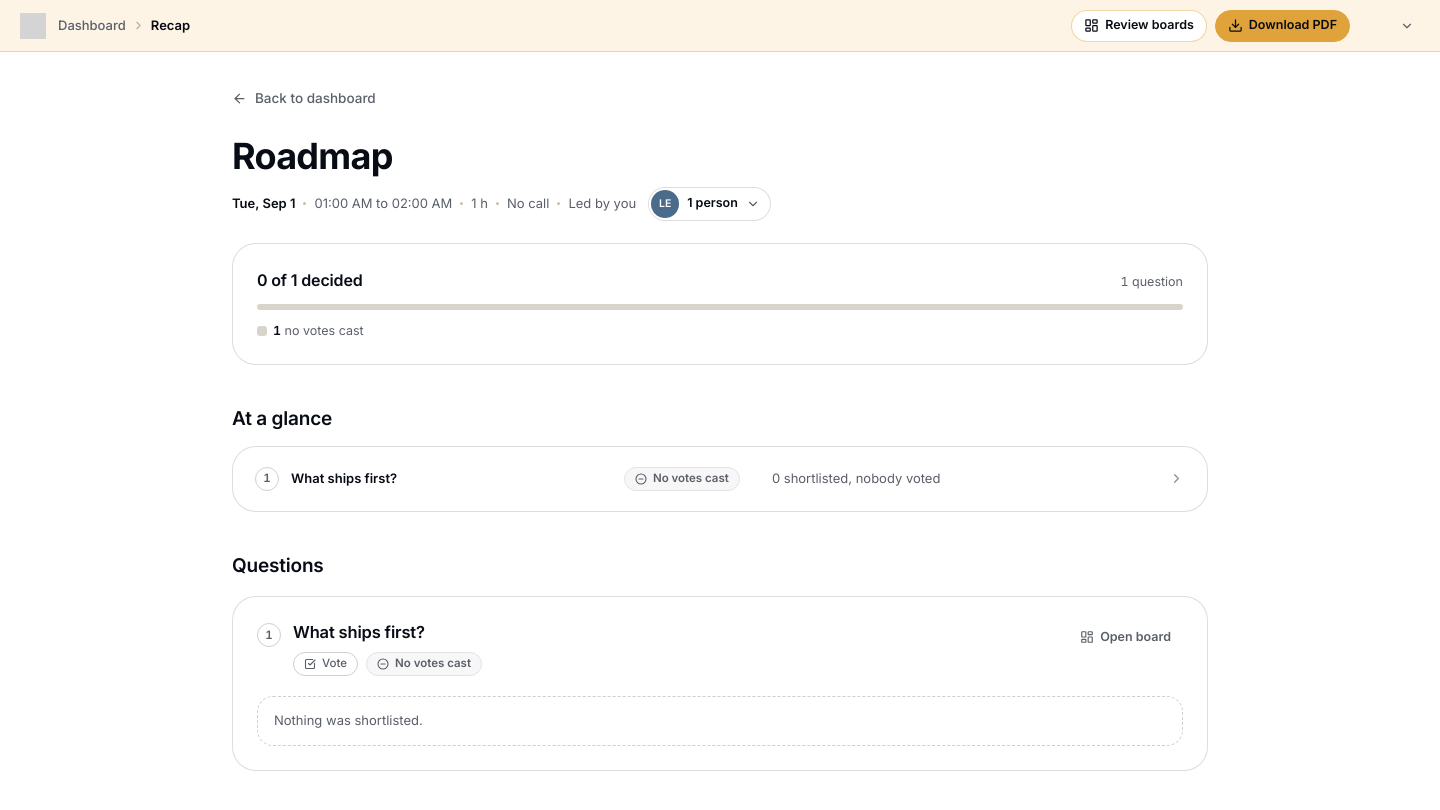
Test: SessionEndedPage › asks for the PDF with the bearer header and the viewer’s time zone
Click the button "Download PDF" at point(1282, 26), box [1215, 10, 1350, 42]
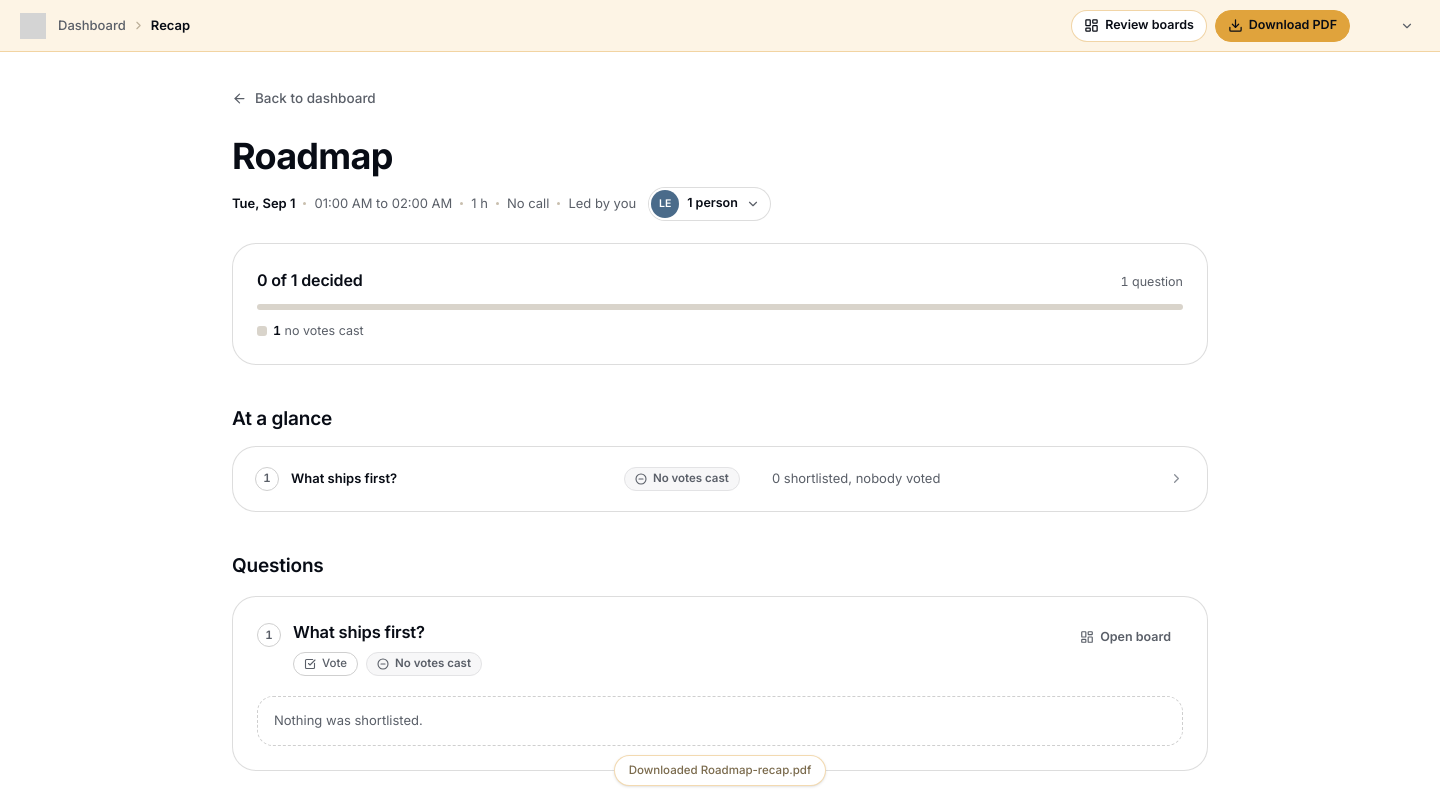
Check: the text "Downloaded Roadmap-recap.pdf" is shown, box [614, 755, 826, 786]
